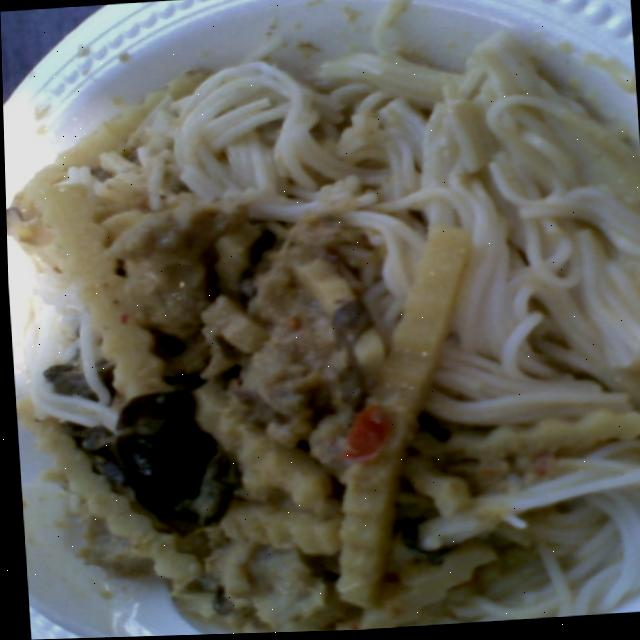面条主食: (7, 0, 640, 638)
